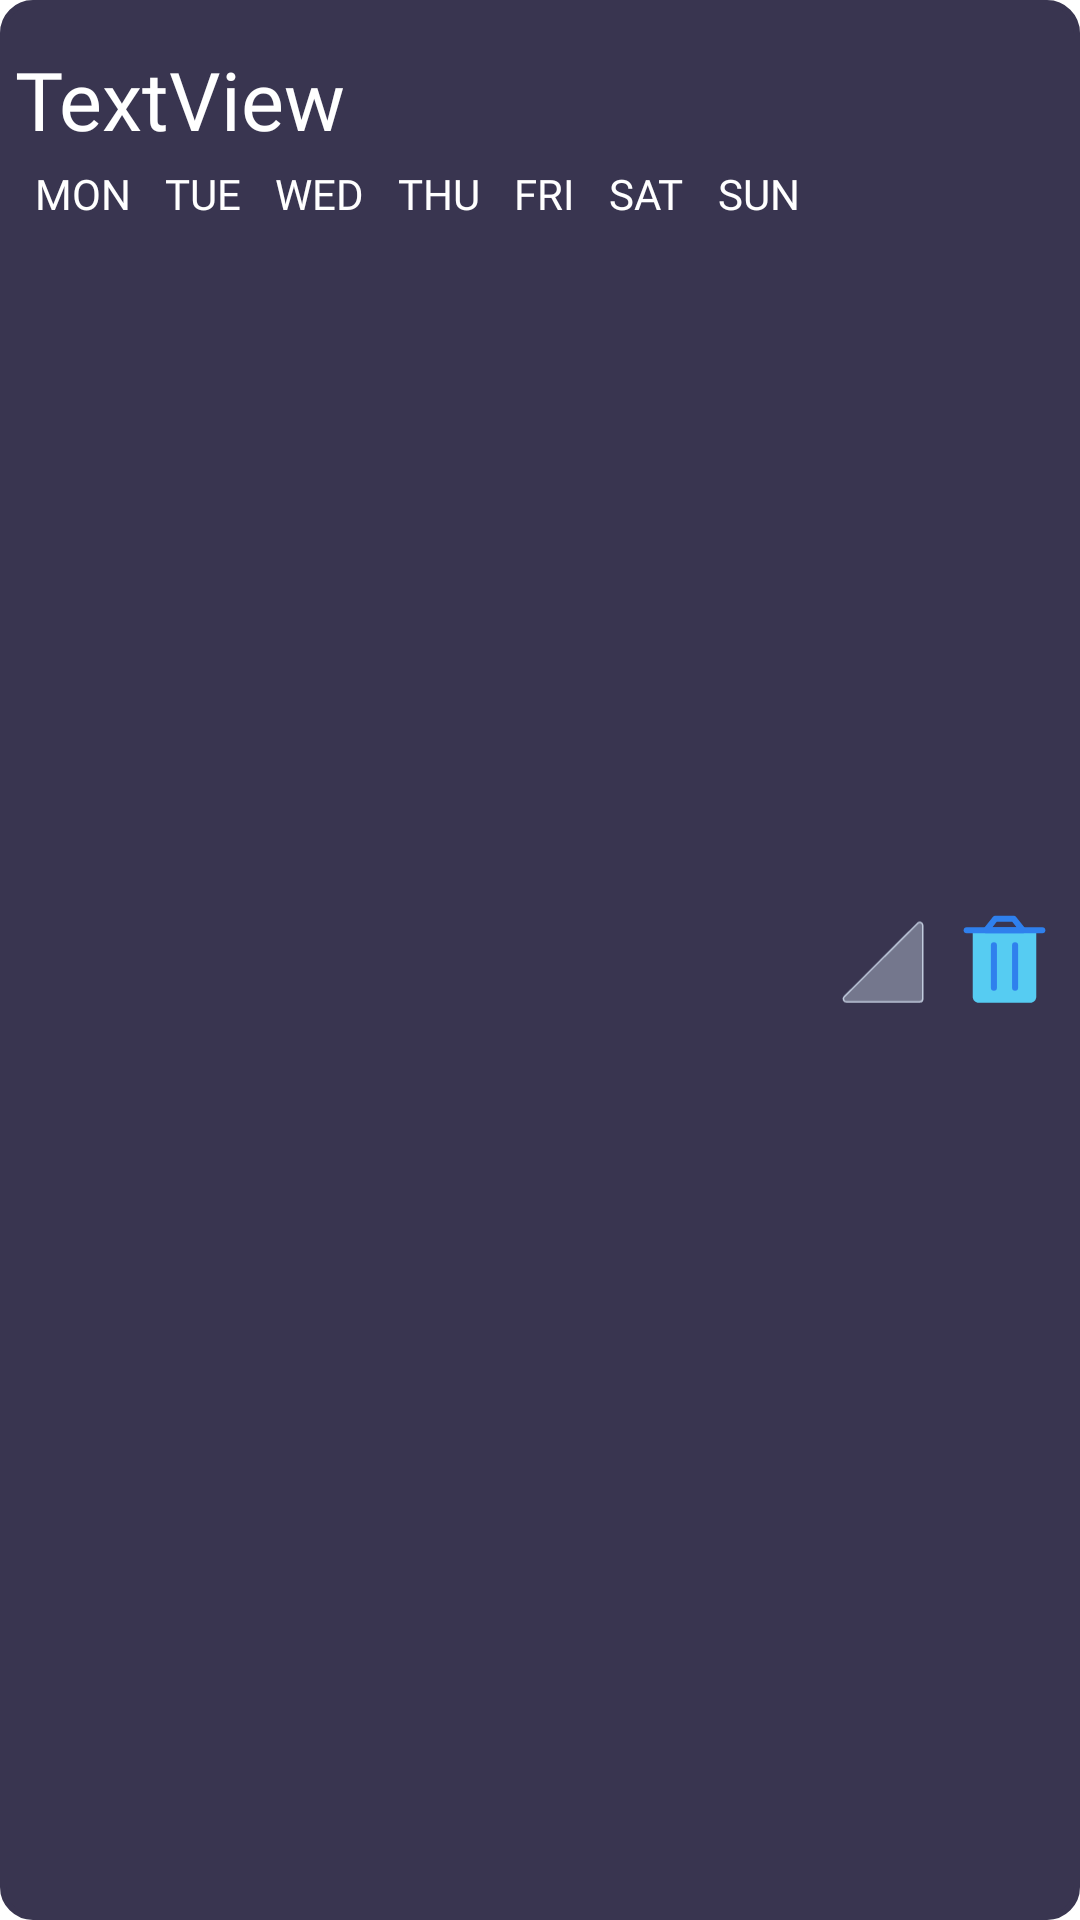

Point at icon controls on the screen. Image size 1080x1920, points as (x=x, y=y).
trash: (x=1004, y=959)
vol: (x=883, y=962)
